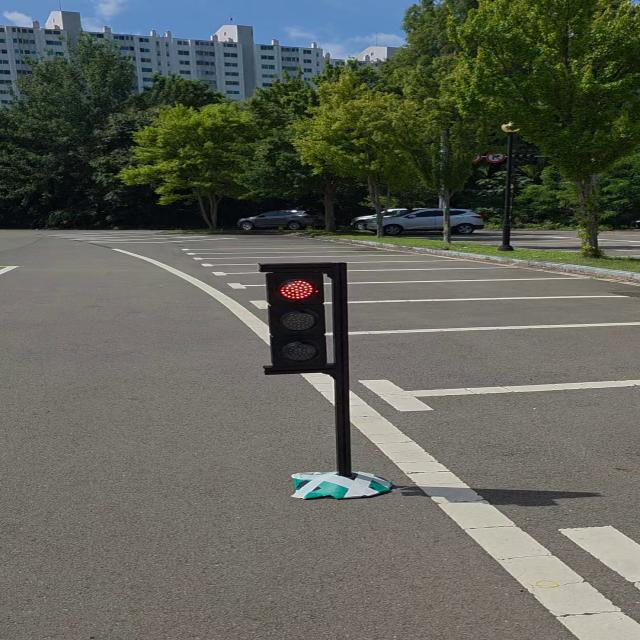red: (256, 264, 338, 382)
